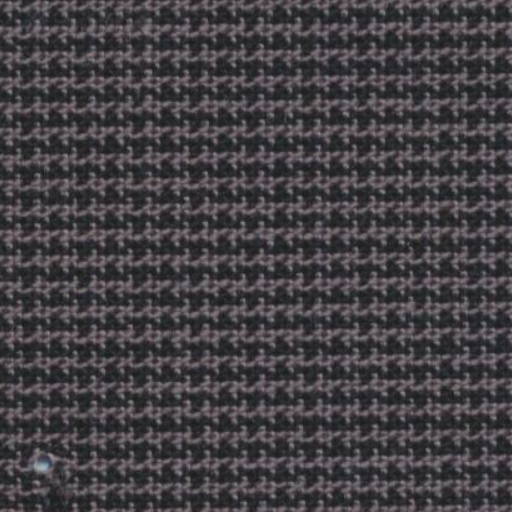PoDong: (3, 420, 89, 499)
